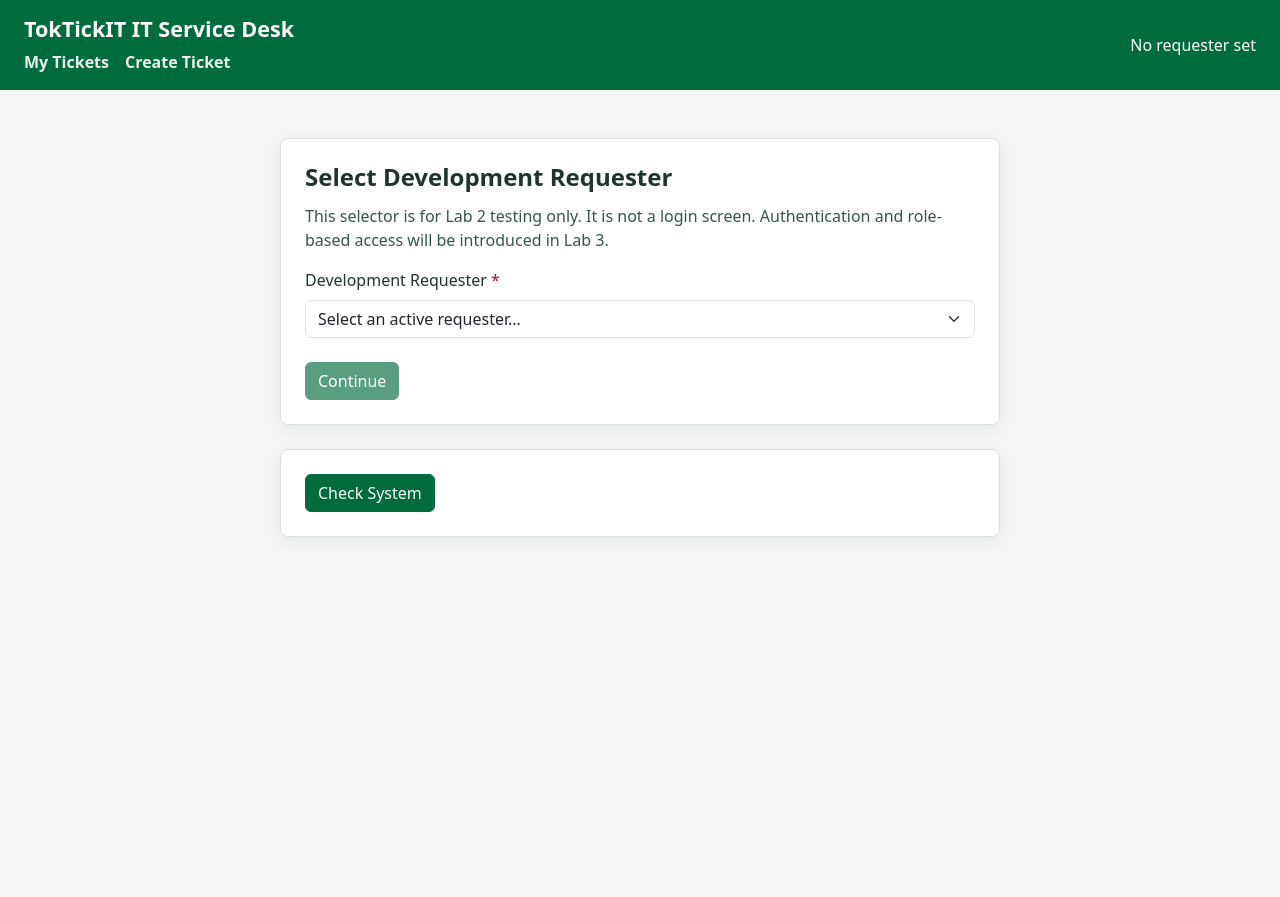
My Tickets workflow › shows a loading state while owned Tickets are being retrieved
This screenshot has width=1280, height=897.
Select "Anong Student (anong.student@example.test)" in the dropdown labelled "Development Requester *" at x=640, y=319, box [305,300,975,338]
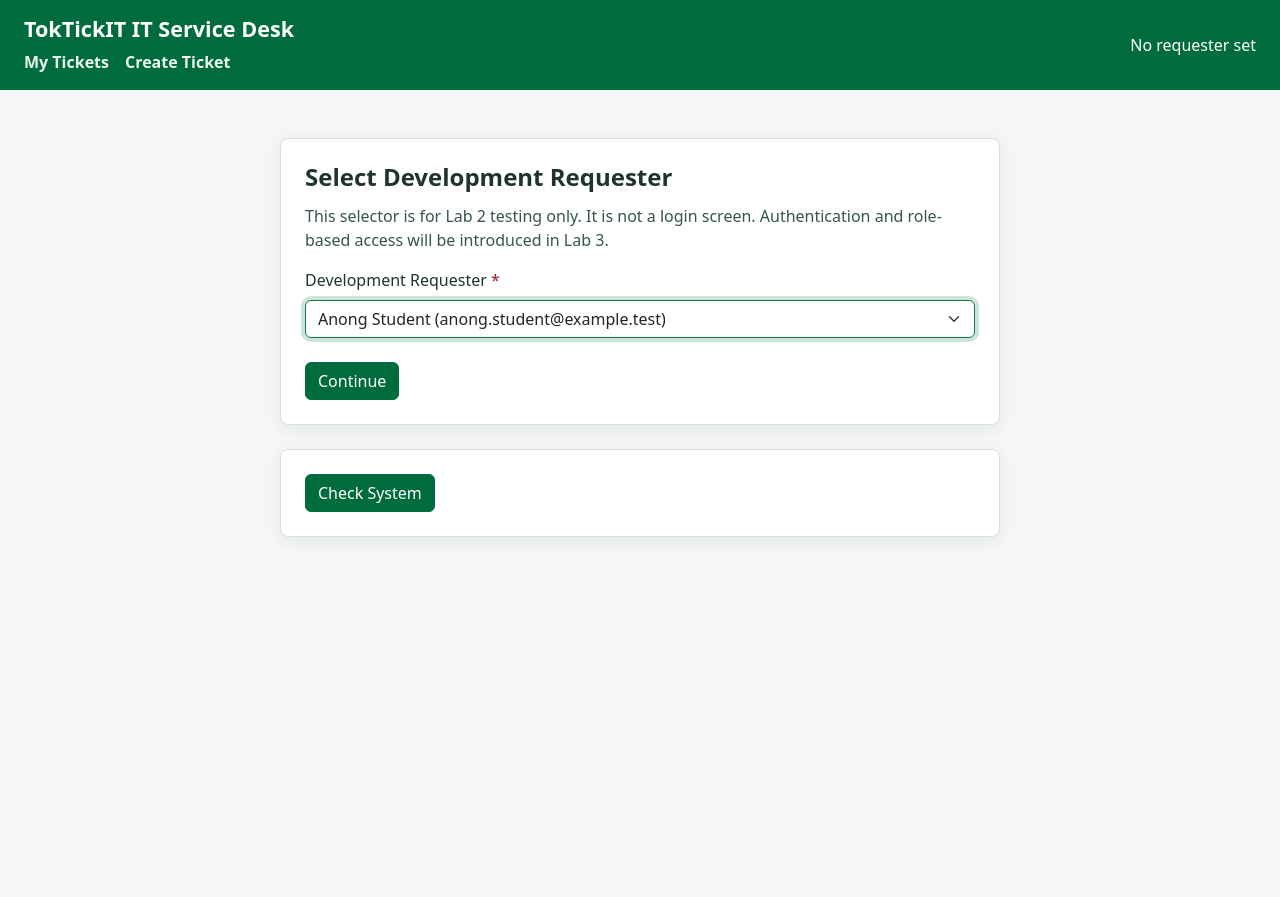
Click the button "Continue" at x=352, y=381, box [305,362,399,400]
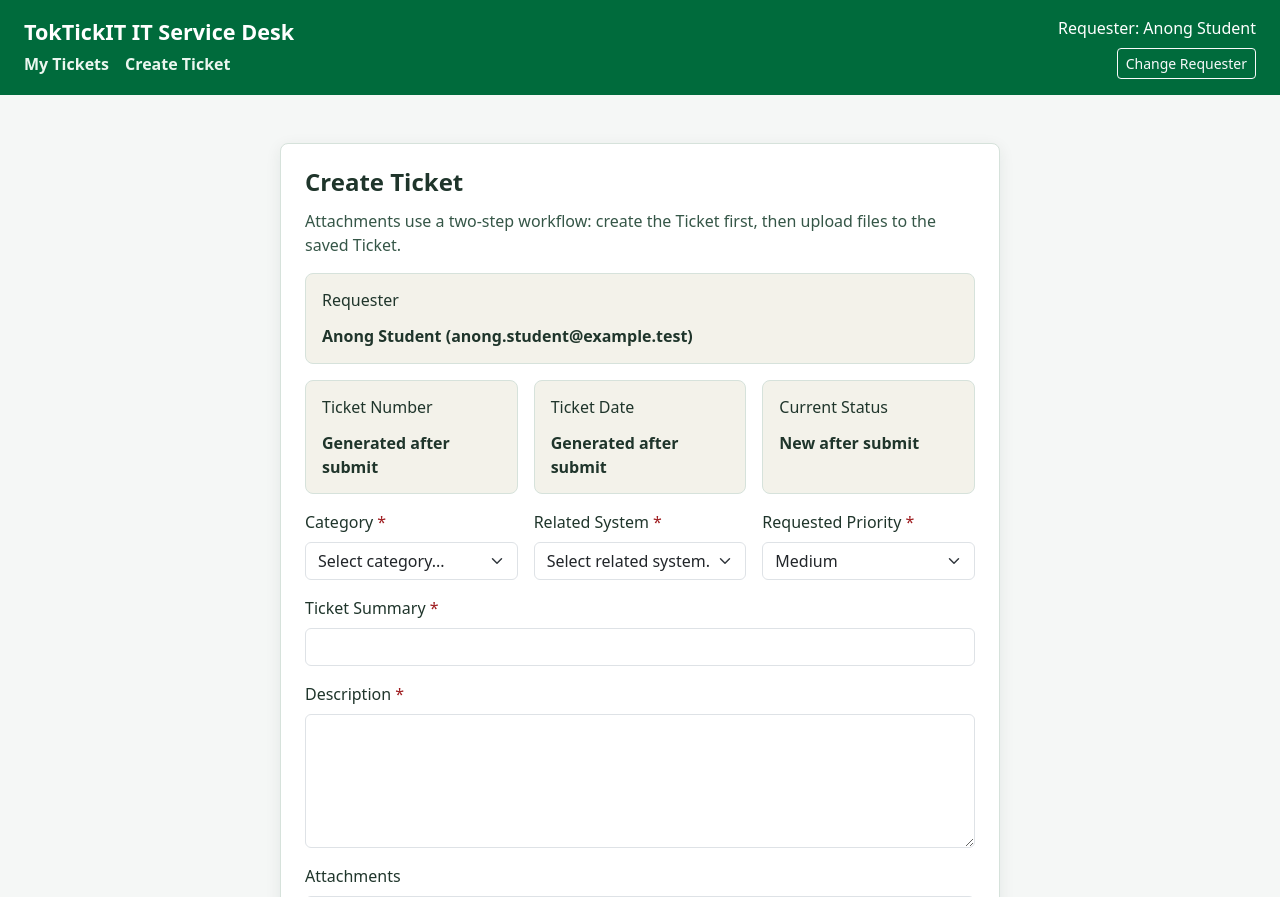
Click the link "My Tickets" at x=66, y=64, box [24,52,109,76]
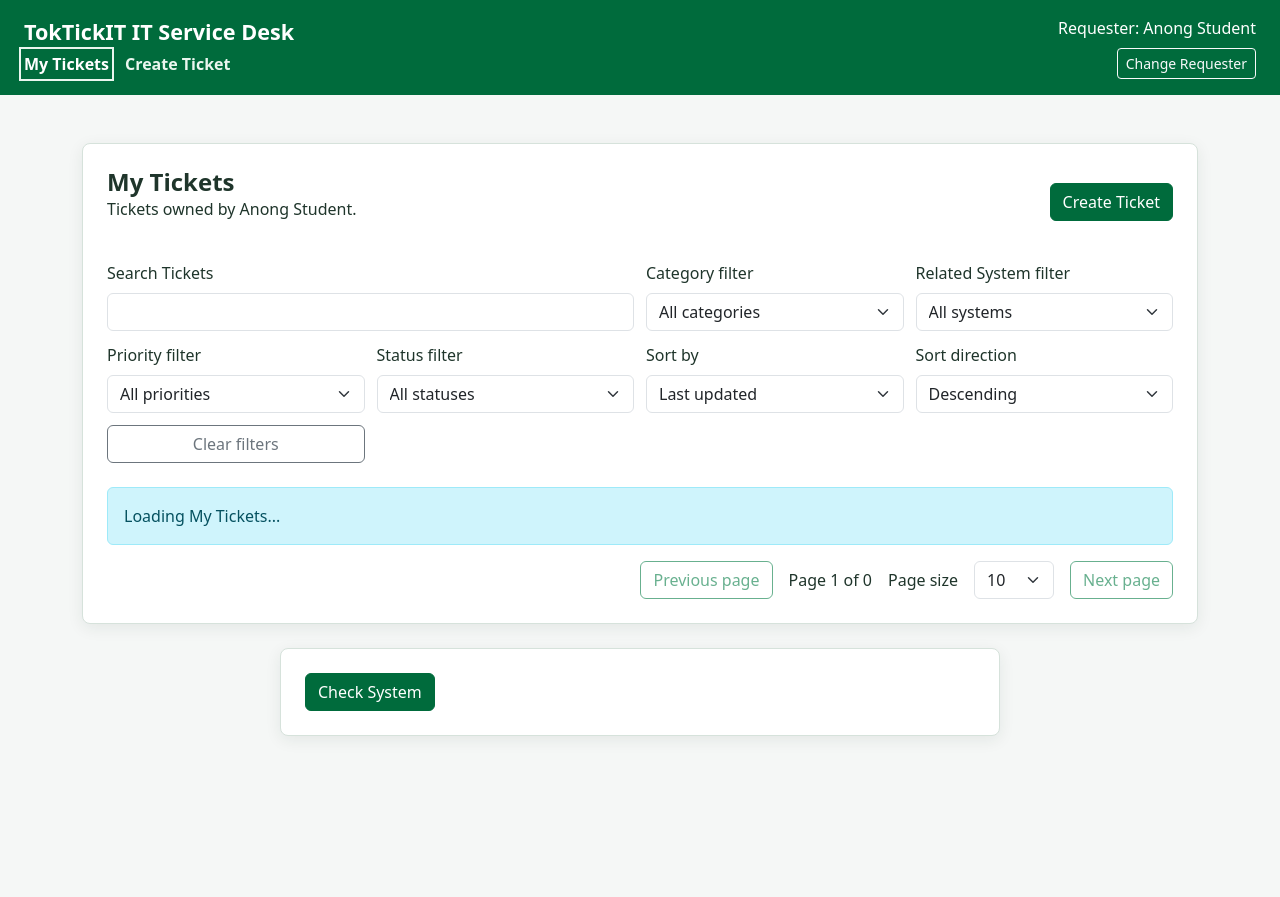
Now the text "Loading My Tickets..." is shown, box [107,487,1173,545]
